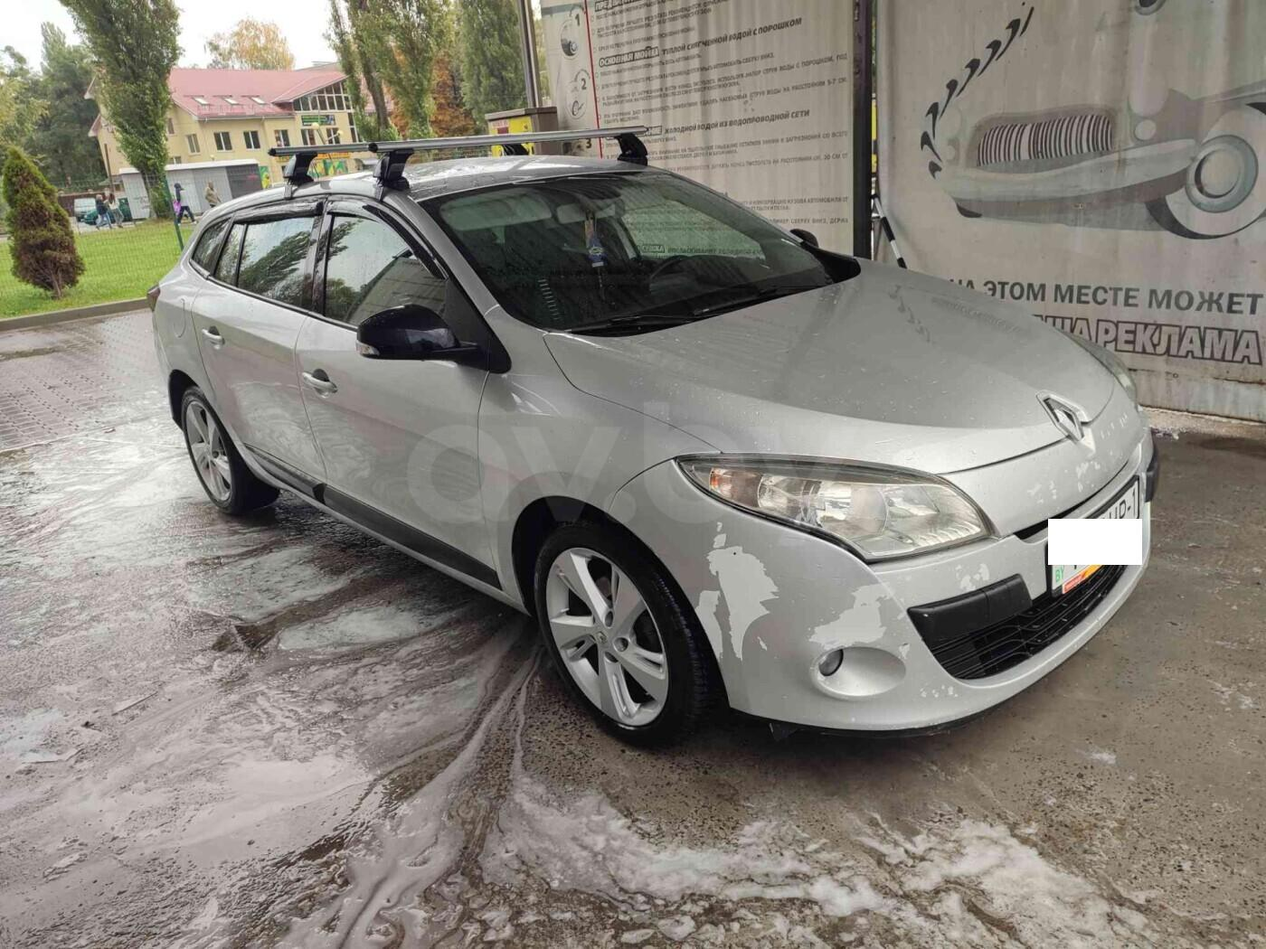Megane_2008-2014: (147, 143, 1165, 760)
